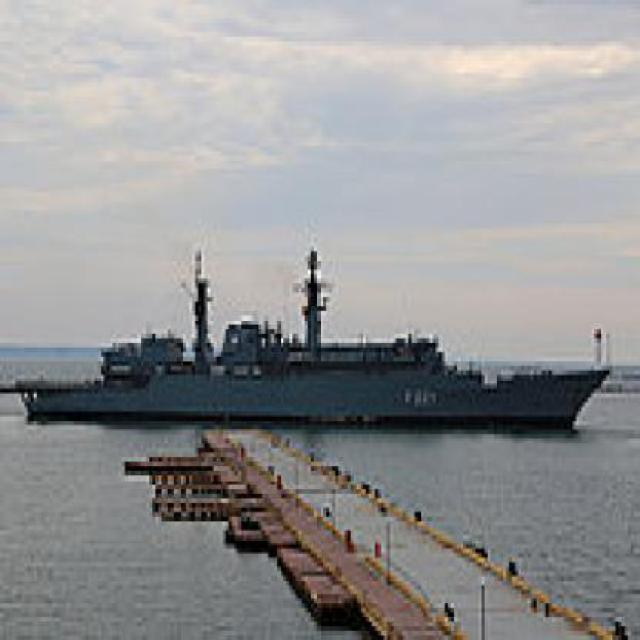warship2: (8, 211, 617, 445)
